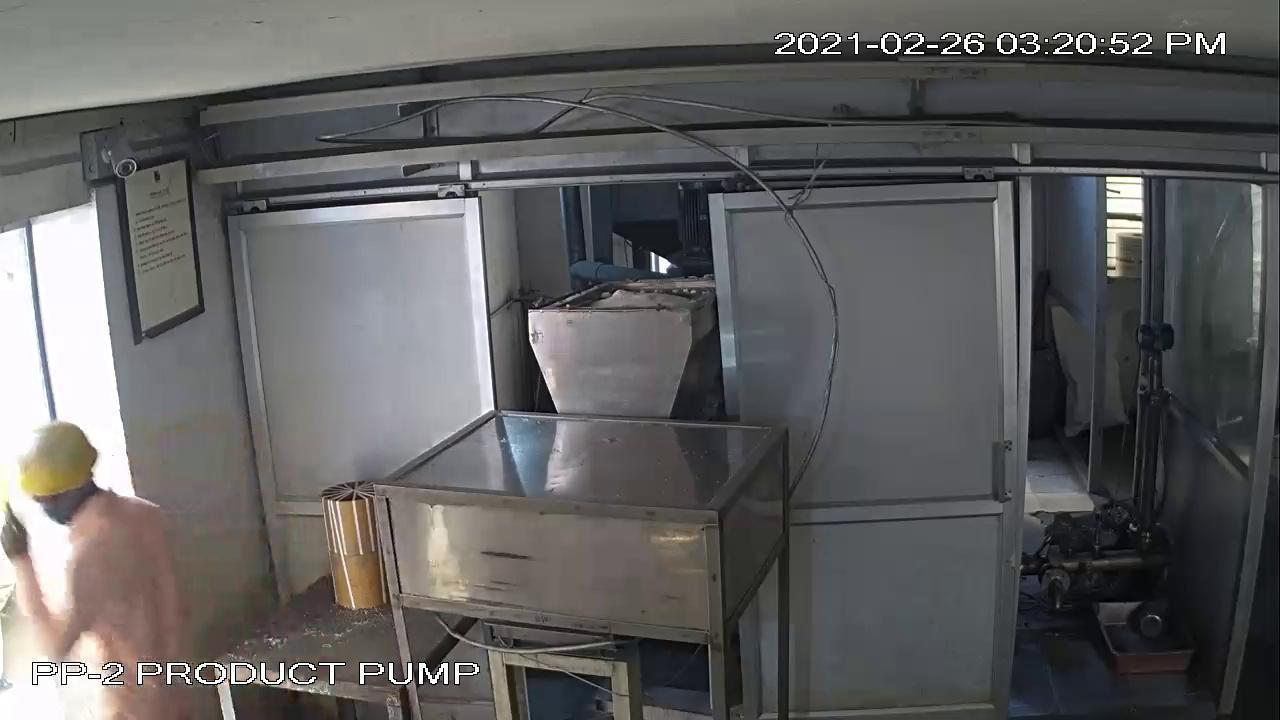helmet: (1, 411, 115, 529)
